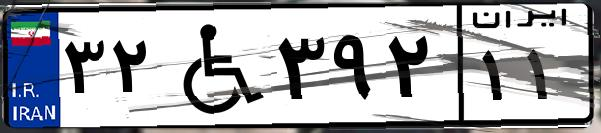1: (475, 38, 525, 113), (525, 38, 570, 115)
2: (385, 28, 445, 110), (110, 28, 158, 98)
3: (270, 28, 330, 110), (57, 26, 110, 100)
9: (330, 28, 385, 110)
ژ (معلولین و جانبازان): (158, 12, 270, 120)
